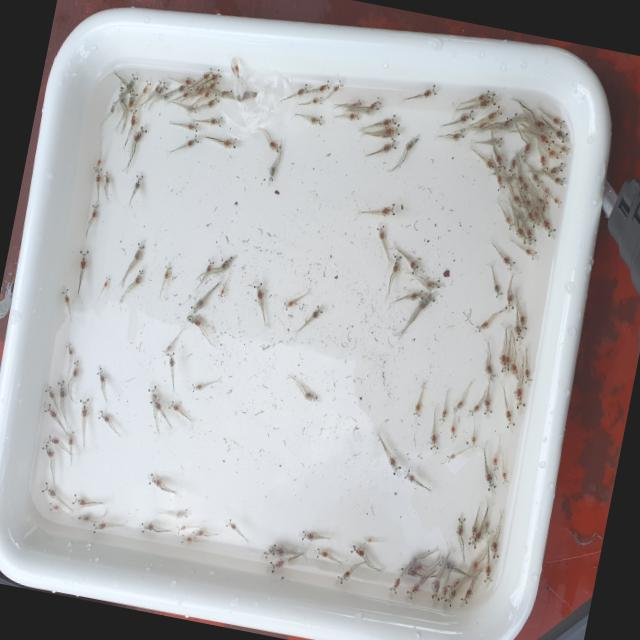babyshrimp: (131, 121, 147, 159), (383, 450, 401, 480), (249, 279, 265, 311), (512, 380, 526, 413), (416, 290, 436, 313), (132, 238, 146, 269), (366, 95, 384, 119), (528, 166, 545, 191), (145, 472, 165, 493), (186, 315, 203, 339), (38, 441, 55, 465), (215, 134, 239, 151), (499, 247, 515, 272), (477, 90, 497, 110), (403, 581, 423, 601), (200, 112, 223, 129), (96, 408, 112, 432), (376, 122, 400, 138), (548, 125, 568, 144), (549, 111, 567, 132), (40, 481, 58, 502), (484, 154, 501, 176), (466, 527, 483, 549), (178, 133, 200, 150), (64, 426, 76, 457), (281, 296, 304, 312), (473, 317, 492, 336), (536, 132, 555, 151), (385, 577, 403, 597), (457, 584, 474, 605), (70, 492, 91, 509), (146, 382, 157, 414), (485, 103, 503, 122), (223, 517, 240, 537), (131, 266, 144, 292), (78, 394, 91, 420), (375, 201, 396, 217), (485, 462, 496, 492), (267, 558, 289, 573), (329, 78, 344, 100), (266, 158, 279, 183), (126, 71, 139, 96), (429, 575, 441, 602), (348, 543, 367, 560), (41, 402, 58, 421), (378, 138, 397, 155), (388, 253, 402, 276), (514, 225, 528, 248), (308, 301, 324, 321), (343, 95, 363, 111), (428, 424, 439, 453), (502, 284, 513, 313), (404, 133, 419, 154), (43, 384, 58, 405), (410, 397, 423, 421), (493, 147, 505, 173), (503, 403, 514, 431), (457, 107, 475, 124), (437, 556, 454, 574), (188, 298, 206, 315), (203, 93, 220, 111), (401, 468, 420, 484), (443, 449, 462, 465), (442, 589, 458, 608), (165, 399, 184, 415), (219, 251, 235, 270), (295, 80, 311, 99), (374, 221, 386, 246), (506, 156, 521, 176), (336, 569, 356, 584), (377, 112, 397, 127), (125, 89, 138, 112), (523, 360, 534, 387), (162, 260, 173, 287), (78, 249, 89, 276), (525, 209, 539, 230), (299, 529, 320, 543), (314, 77, 331, 94), (406, 255, 418, 279), (159, 343, 177, 359), (56, 378, 65, 410), (502, 211, 515, 233), (132, 169, 143, 195), (44, 433, 63, 448), (542, 220, 556, 240), (424, 276, 441, 292), (148, 393, 163, 411), (128, 107, 138, 134), (512, 319, 523, 343), (138, 521, 160, 533), (268, 543, 288, 556), (46, 501, 66, 514), (303, 386, 319, 402), (549, 160, 564, 177), (74, 513, 97, 524), (266, 137, 280, 155), (482, 391, 492, 416), (155, 80, 168, 99), (492, 278, 503, 300), (466, 519, 477, 541), (92, 150, 103, 172), (141, 76, 152, 98), (95, 362, 105, 386), (467, 400, 481, 417), (447, 128, 464, 142), (422, 83, 436, 100), (306, 113, 323, 127), (181, 120, 198, 134), (448, 415, 457, 441), (482, 559, 491, 585), (90, 521, 108, 534), (519, 308, 528, 333), (488, 134, 503, 149), (475, 88, 490, 103), (314, 546, 329, 561), (408, 288, 424, 302), (522, 248, 538, 262), (205, 69, 221, 83), (203, 76, 219, 90), (172, 506, 189, 519), (437, 402, 447, 424), (165, 351, 175, 373), (89, 201, 99, 223), (498, 351, 507, 375), (491, 534, 499, 561), (495, 174, 505, 195), (63, 342, 73, 363), (552, 174, 565, 190), (197, 66, 213, 79), (455, 516, 464, 539), (545, 148, 562, 160), (181, 103, 198, 115), (500, 462, 508, 487), (438, 581, 448, 601), (468, 427, 477, 449), (548, 197, 563, 210), (556, 143, 571, 156), (345, 109, 361, 121), (204, 257, 214, 276), (60, 287, 69, 307), (172, 83, 190, 93), (94, 166, 102, 188), (70, 357, 78, 379), (491, 452, 499, 473), (179, 534, 195, 544), (216, 283, 226, 299), (311, 94, 324, 106), (102, 169, 109, 191), (361, 535, 375, 545), (190, 529, 205, 538), (152, 79, 162, 92), (182, 78, 195, 88), (175, 523, 186, 534), (103, 274, 111, 289)
